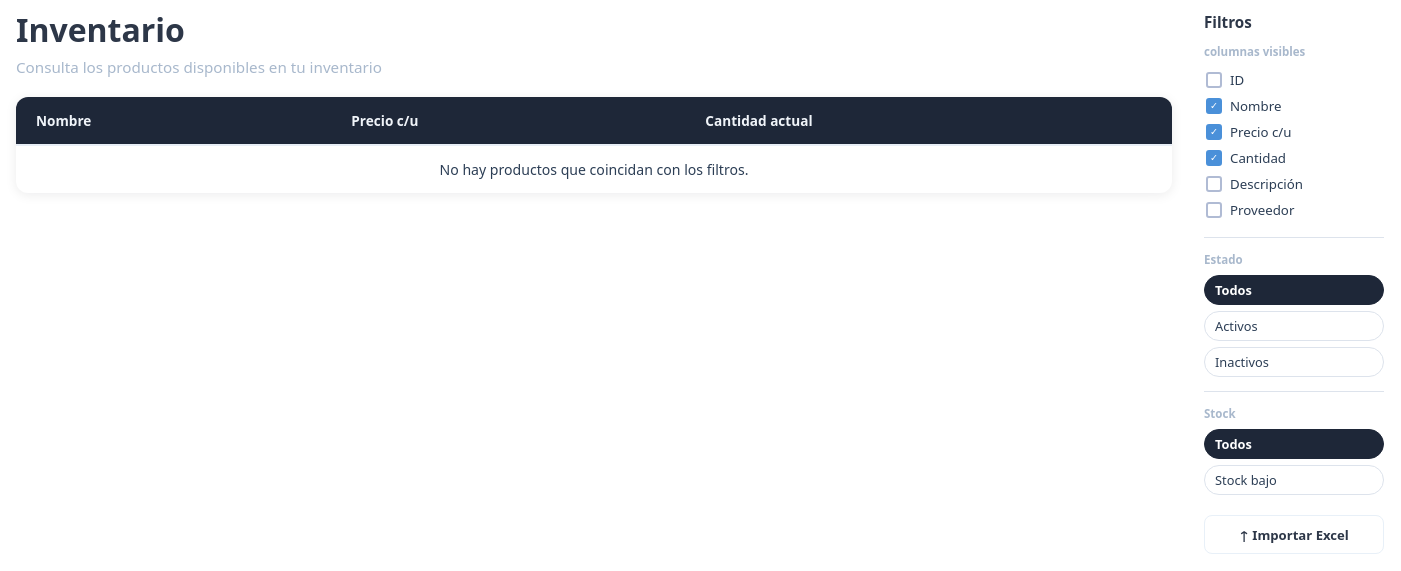
Test: InventoryView › permite mostrar y ocultar columnas
This screenshot has width=1401, height=571.
Click the list item "ID".
click(1214, 80)  # box left=1206, top=71, right=1244, bottom=89
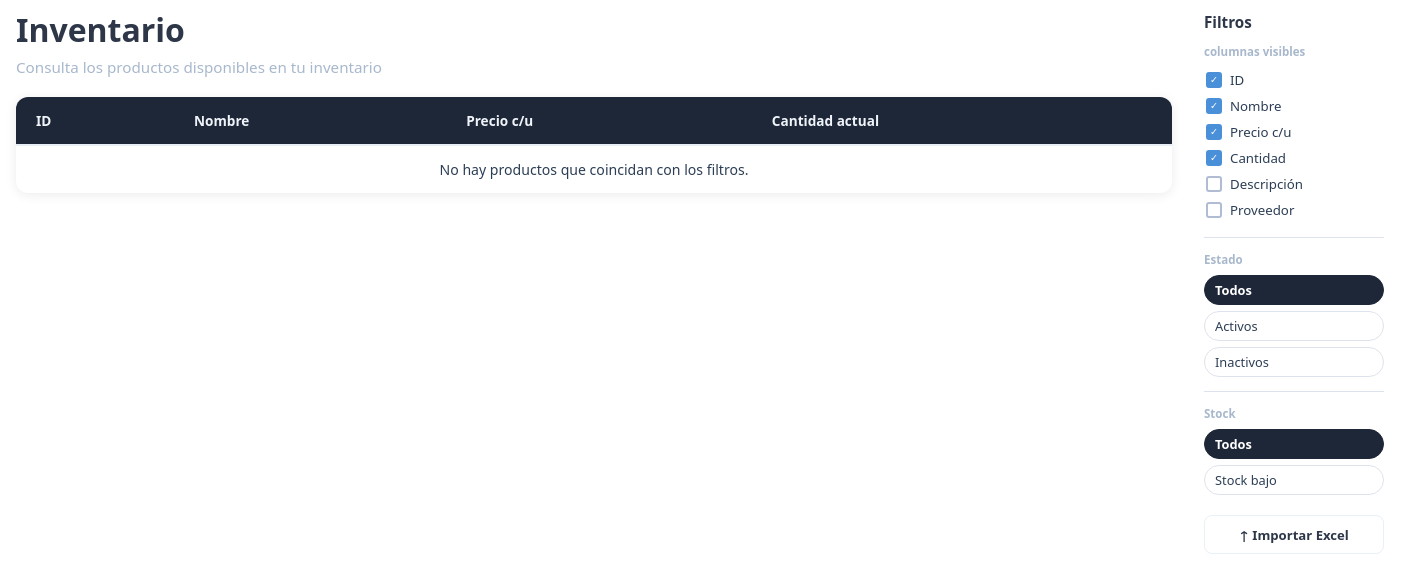
Check: the column heading "ID" is shown, box left=16, top=97, right=174, bottom=145
